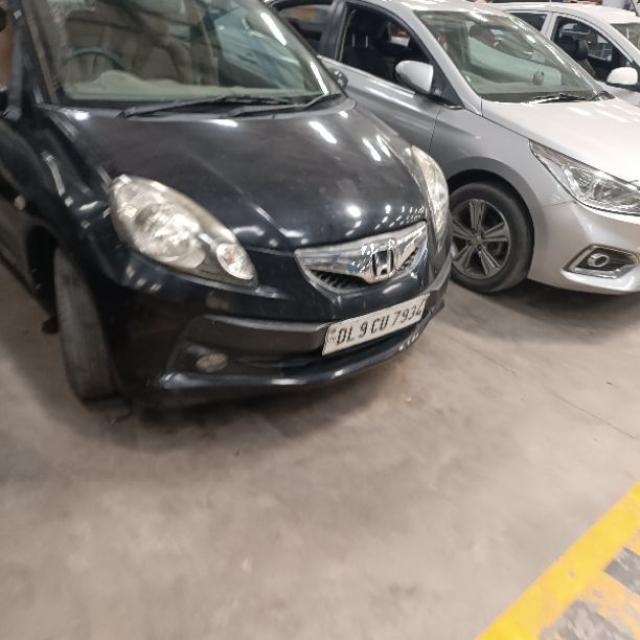license_plate: (320, 292, 429, 358)
